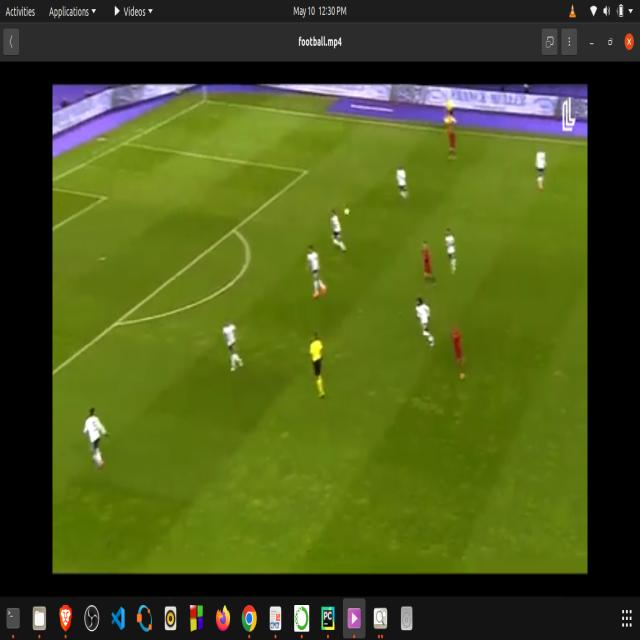Ball: (343, 202, 352, 220)
Refree: (305, 327, 333, 408)
football-players: (83, 402, 116, 472), (219, 314, 246, 384), (306, 240, 329, 306), (451, 326, 472, 395), (438, 222, 463, 278), (416, 293, 438, 354), (328, 206, 345, 259), (533, 149, 552, 192), (421, 238, 438, 286), (396, 164, 414, 203), (446, 127, 461, 167)
